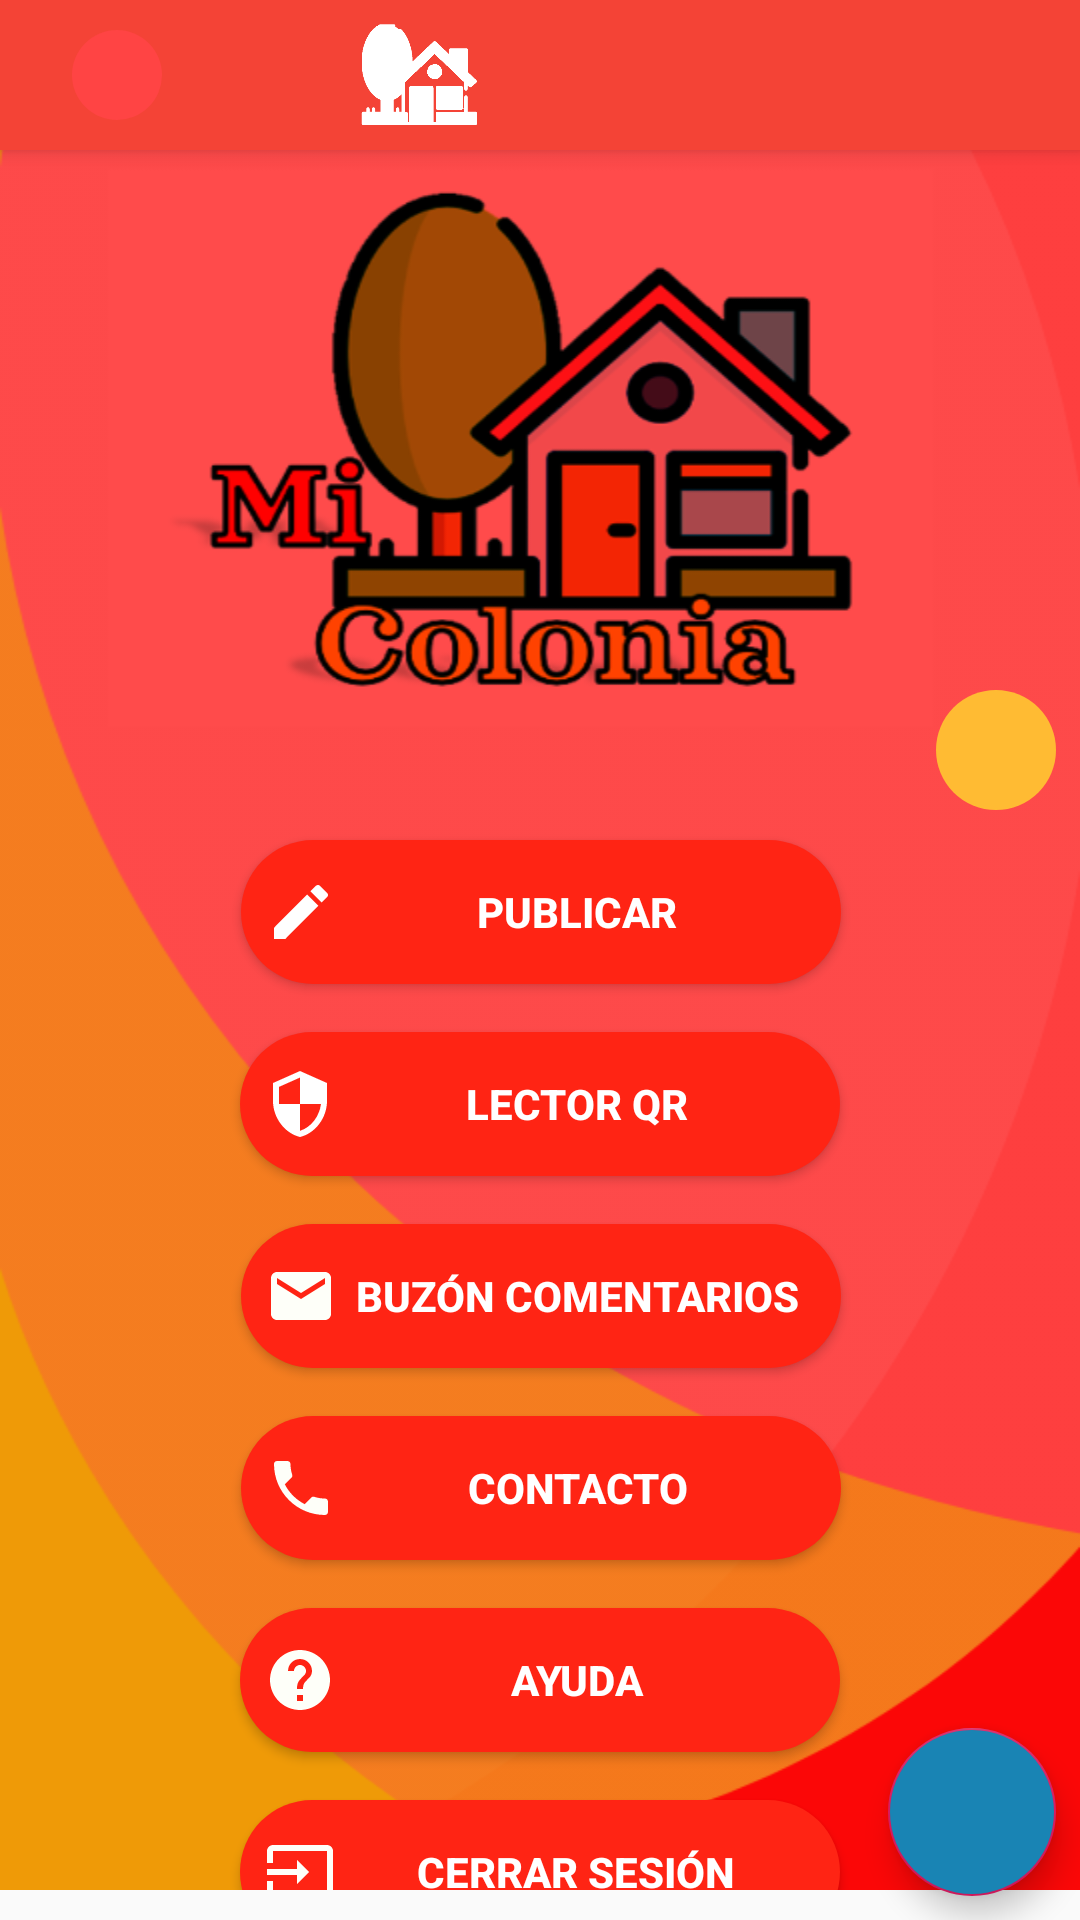

Screen size 1080px x 1920px. Icon name, then its center in pixels as point (x, y):
casa: point (419, 74)
